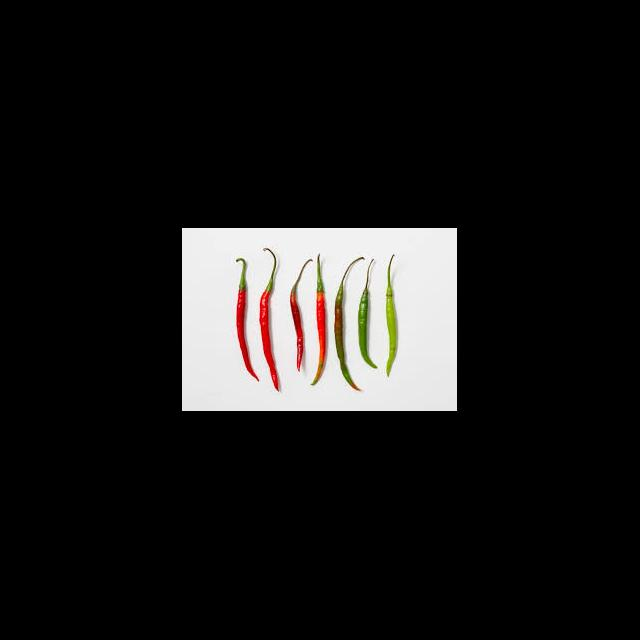chili_pepper: (332, 286, 357, 393), (233, 288, 254, 382), (290, 294, 306, 372), (260, 289, 272, 376), (356, 286, 369, 366), (386, 288, 398, 370), (316, 294, 326, 364)
